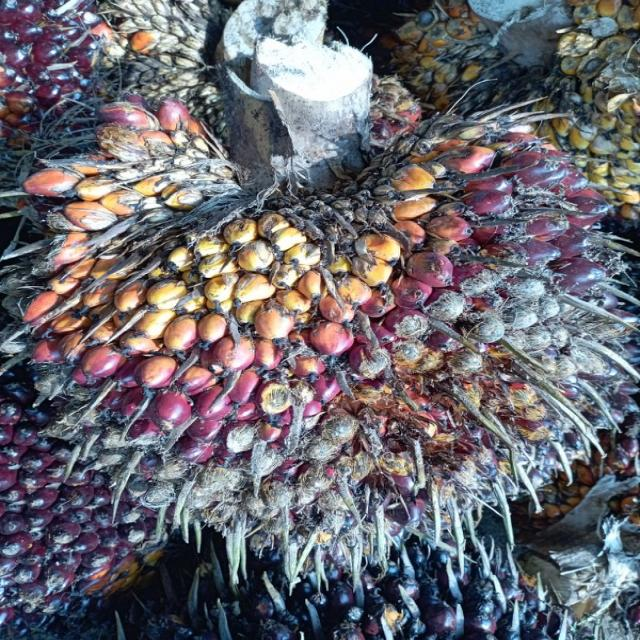fraksi 1: (0, 81, 640, 576)
